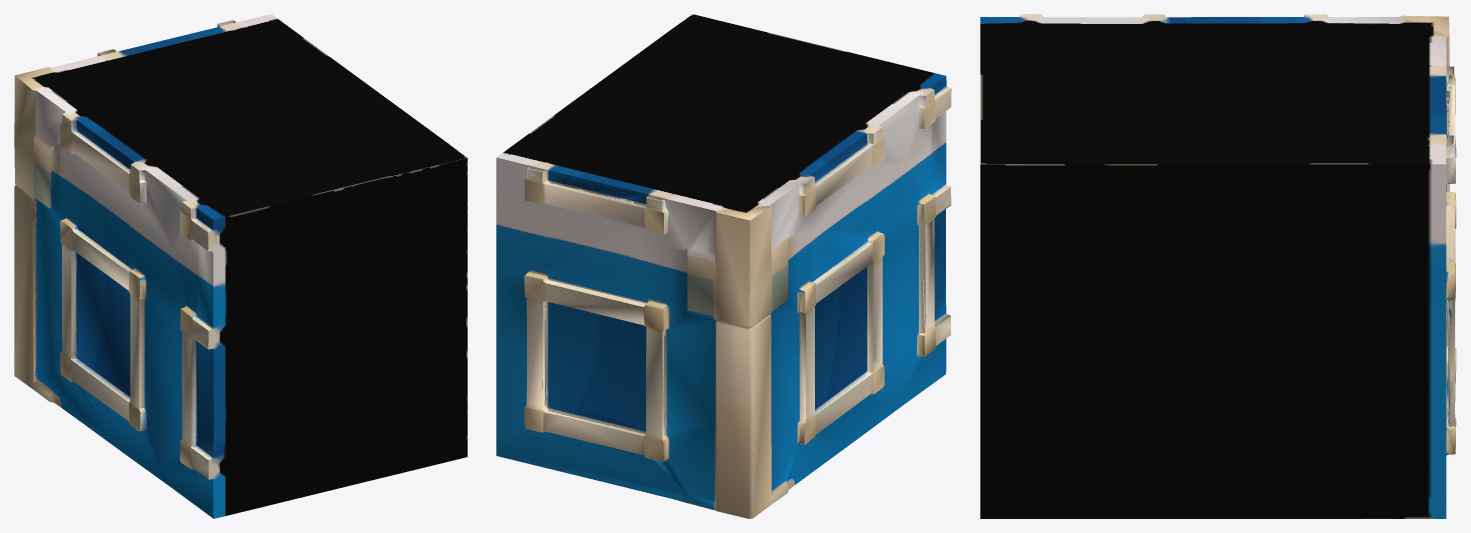
Rendered from 7-upper-walls-back-left.fbx.
3 views of the same model, side by side, from view 1: azimuth 30°, elevation 25°; view 2: azimuth 150°, elevation 25°; view 3: azimuth 270°, elevation 25° (orthographic). The views are drawn at different scales.
Visible parts, largest first — view 1: upper-walls-back-left; view 2: upper-walls-back-left; view 3: upper-walls-back-left.
Boxes of the visible parts, box(x1,y1,x2,y2) form: upper-walls-back-left: box(14, 14, 467, 518); upper-walls-back-left: box(496, 14, 951, 518); upper-walls-back-left: box(980, 14, 1456, 518).
Size of the model in its own units: 4405 by 4835 by 5881.
1 material, 1 textured.
